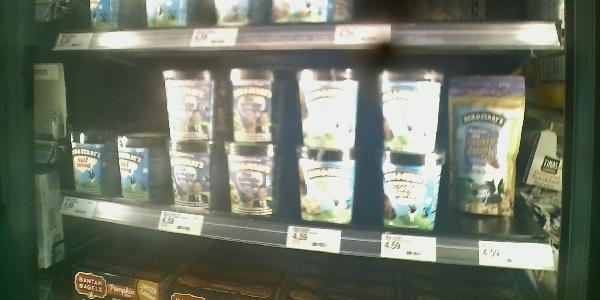icecream1: (449, 74, 529, 222), (377, 66, 445, 154), (296, 62, 360, 151), (164, 138, 222, 224), (161, 64, 222, 145), (376, 156, 442, 230), (296, 150, 357, 226), (225, 62, 279, 144), (224, 145, 281, 222), (118, 122, 168, 202), (69, 127, 117, 192)
